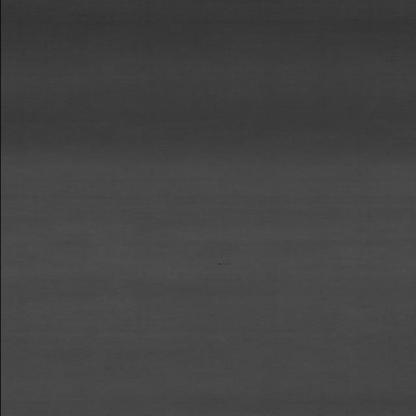inclusion: (208, 259, 236, 271)
